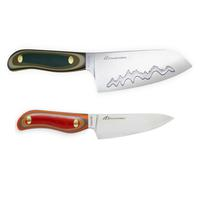knife: (4, 41, 192, 92), (10, 101, 178, 138)
